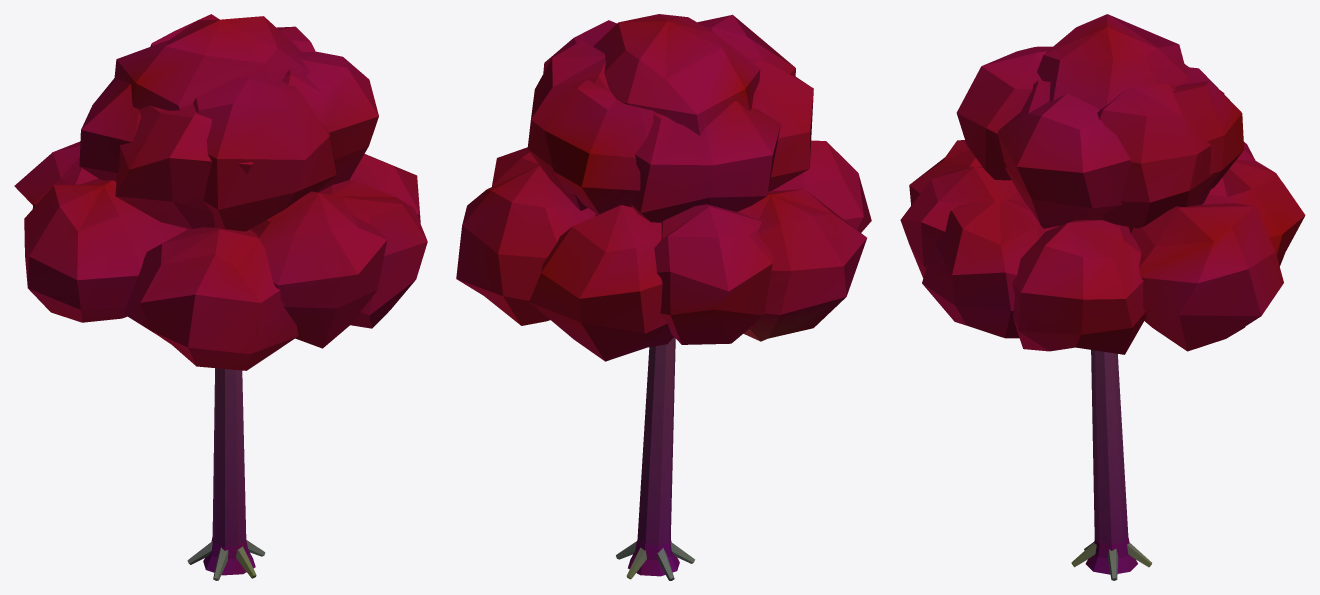
File: Tree_Beech_Tall_02.glb
3 renders of one model, left to right at view 1: azimuth 30°, elevation 25°; view 2: azimuth 150°, elevation 25°; view 3: azimuth 270°, elevation 25°, orthographic. The views are drawn at different scales.
Parts seen in each view (by area): view 1: Tree_Beech_Tall_02; view 2: Tree_Beech_Tall_02; view 3: Tree_Beech_Tall_02.
Boxes of the visible parts, bbox=[...] form: Tree_Beech_Tall_02: bbox=[14, 14, 427, 580]; Tree_Beech_Tall_02: bbox=[456, 14, 871, 580]; Tree_Beech_Tall_02: bbox=[900, 14, 1305, 580].
Bounding box in the file's own units: 8.77 × 12.44 × 8.57.
